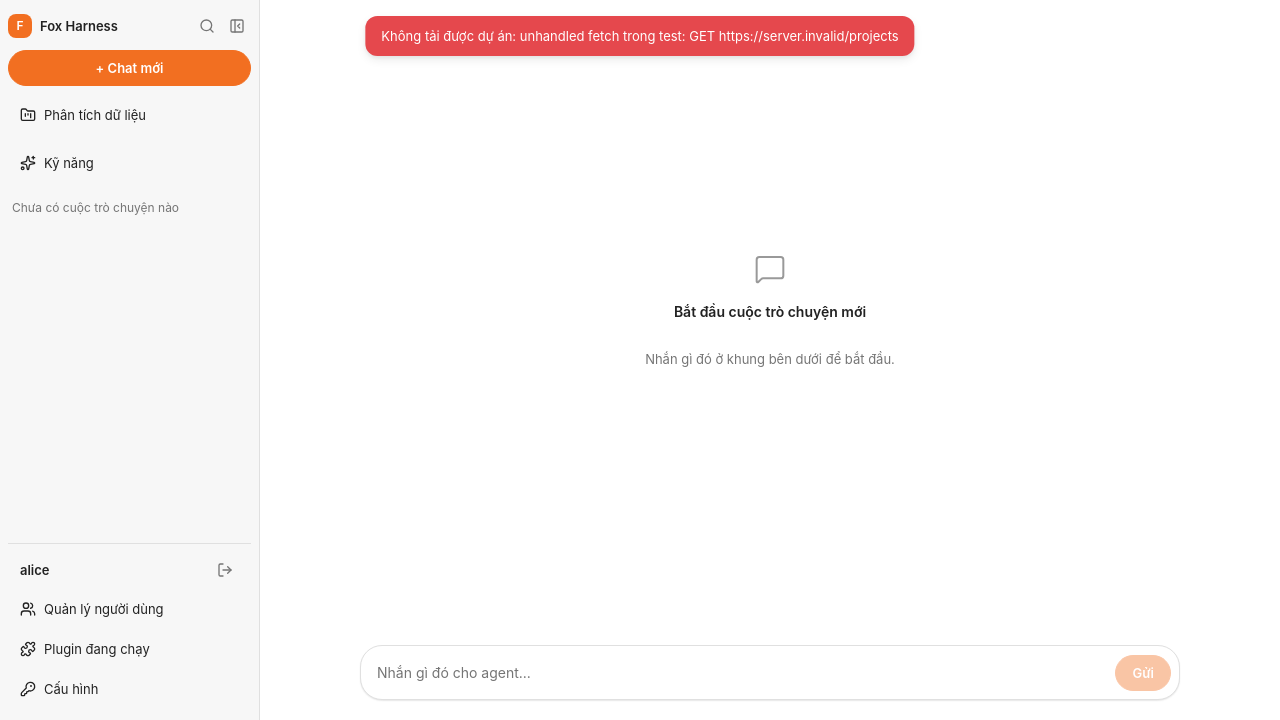
Phase 9.4 — App smoke test › luồng gửi tin nhắn đầu tiên (REST tạo session, WS chỉ subscribe) › step 'token' liên tiếp -> ghép thành 1 bubble assistant DUY NHẤT, tăng dần theo từng mảnh
The width and height of the screenshot is (1280, 720).
In the text box with placeholder "Nhắn gì đó cho agent...": x=742, y=672 [377,654,1108,691], type "bắt đầu"
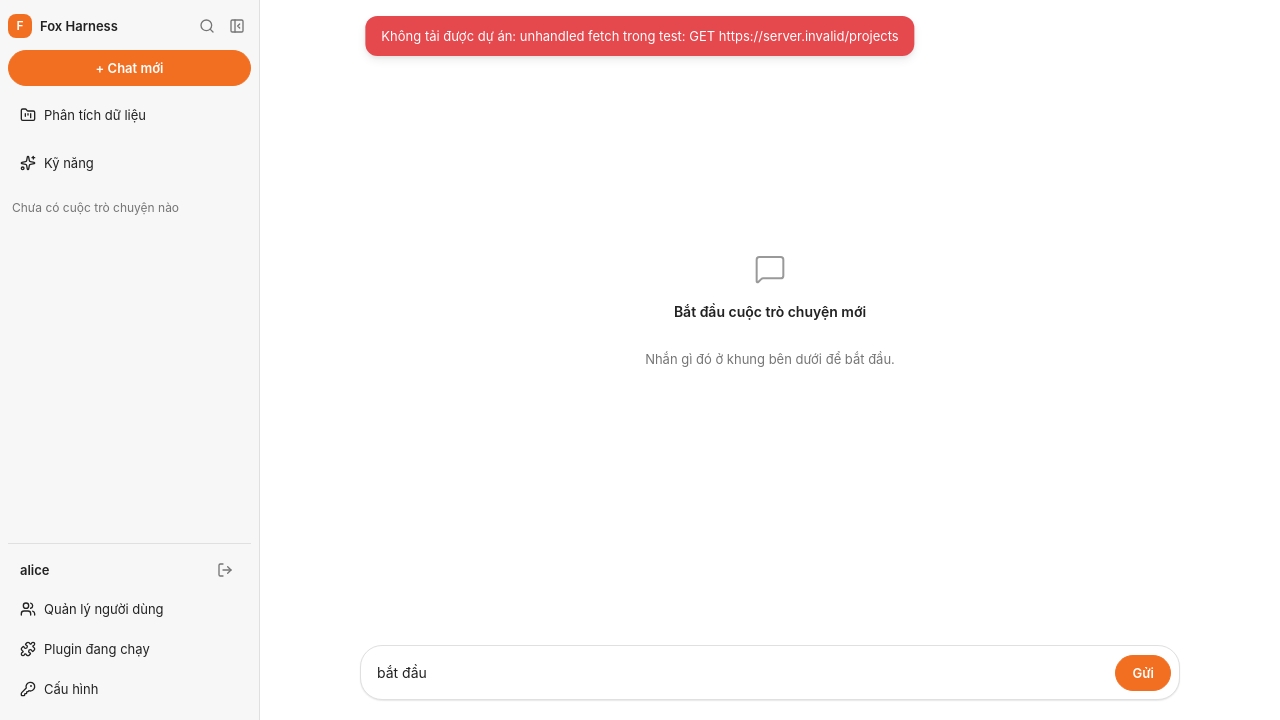
Click the button "Gửi": x=1143, y=673 [1116,655,1171,691]
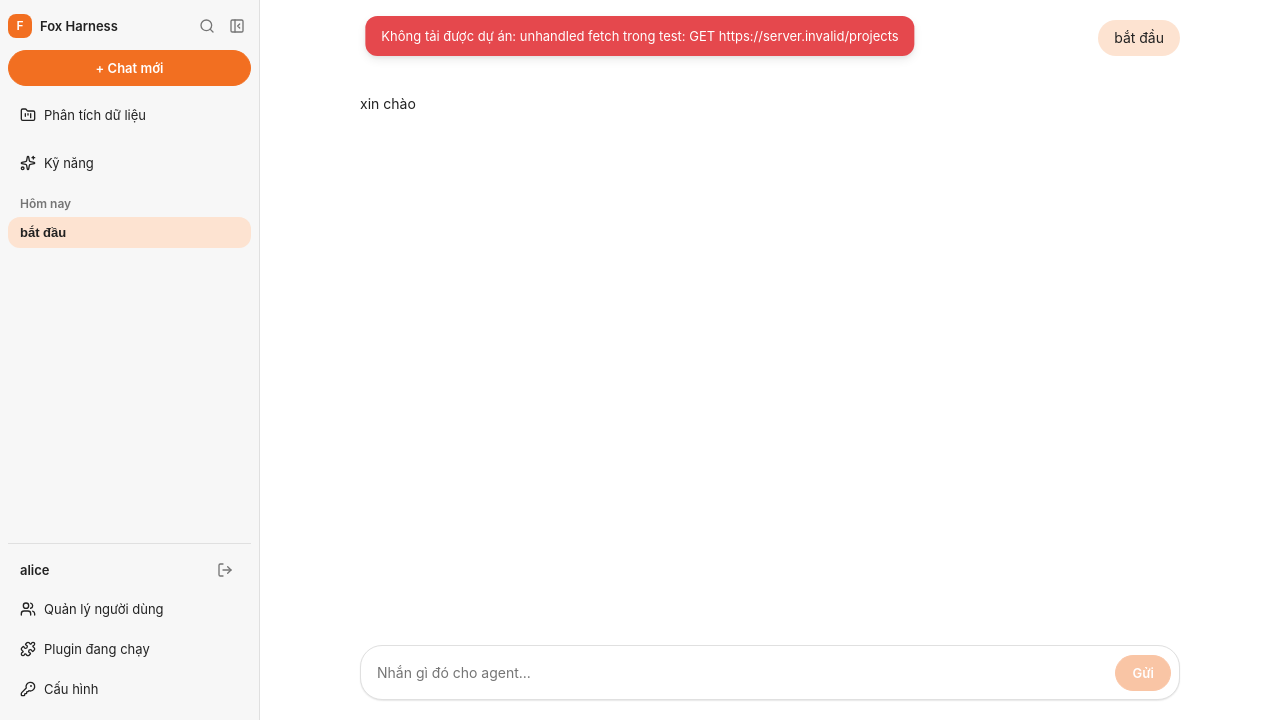
Check: the text "xin chào" is shown, box [360,95,416,112]
